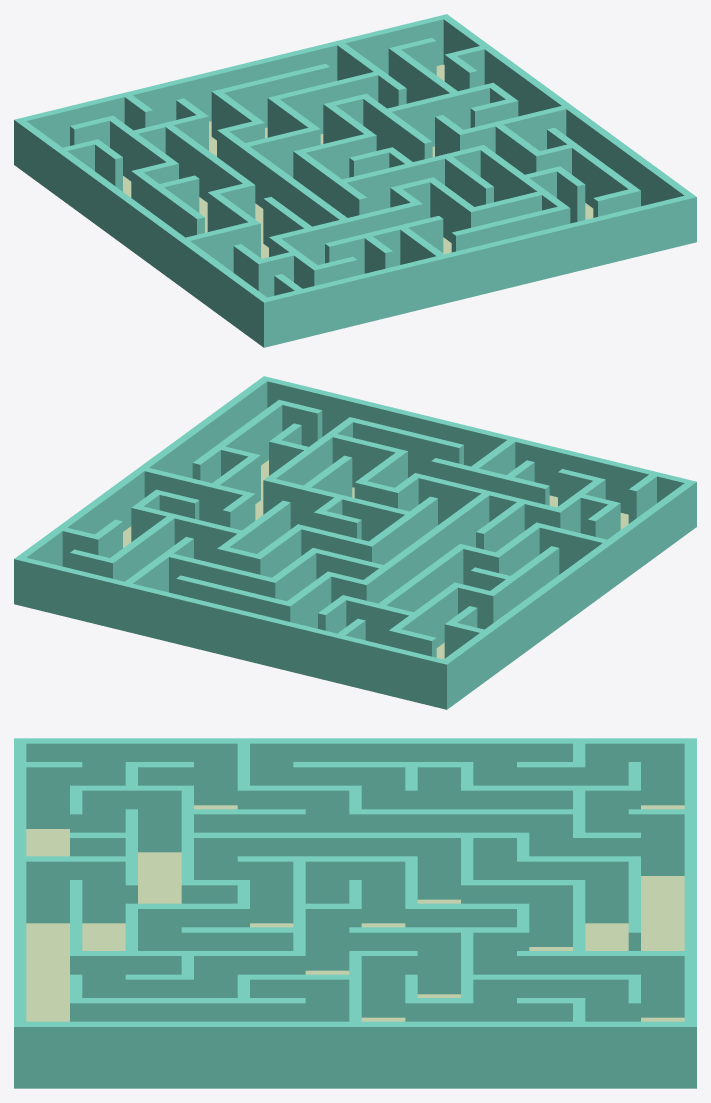
The model's file is Level26Ground.FBX.
3 renders of one model, top to bottom at view 1: azimuth 30°, elevation 25°; view 2: azimuth 150°, elevation 25°; view 3: azimuth 270°, elevation 25°, orthographic. The views are drawn at different scales.
Parts seen in each view (by area): view 1: Labyrinth002; view 2: Labyrinth002; view 3: Labyrinth002.
Boxes of the visible parts, box(x1,y1,x2,y2) form: Labyrinth002: box(14, 14, 696, 347); Labyrinth002: box(14, 376, 696, 709); Labyrinth002: box(14, 738, 696, 1088).
Bounding box in the file's own units: 281 × 28 × 281.
